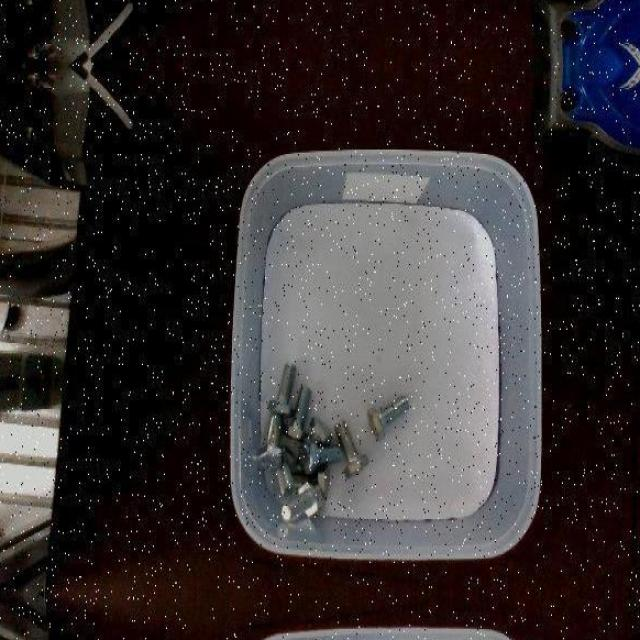screw: (334, 419, 368, 478), (366, 393, 409, 439), (280, 478, 322, 521), (300, 436, 343, 474), (267, 362, 296, 416), (257, 413, 284, 469), (284, 385, 310, 439)
